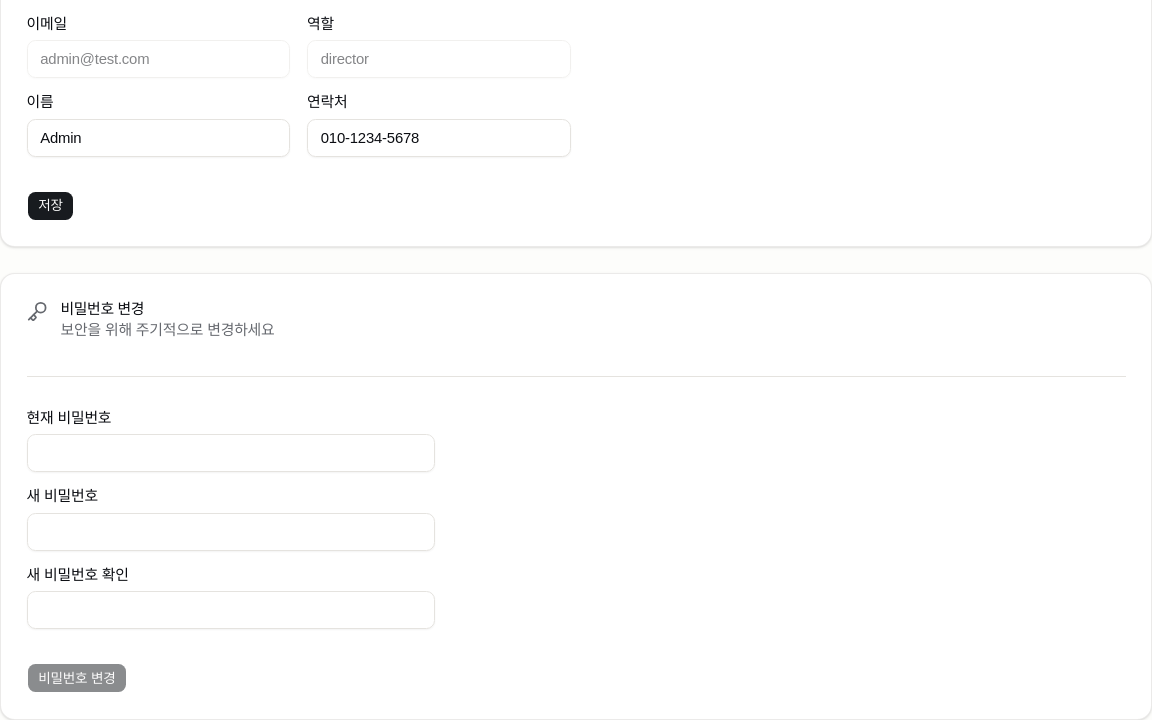
Scenario: SettingsPage › disables save button when passwords do not match
This screenshot has width=1152, height=720.
(page scrolled)
In the password field labelled "현재 비밀번호": (230, 453) left=26, top=434, right=434, bottom=472, type "oldpass"
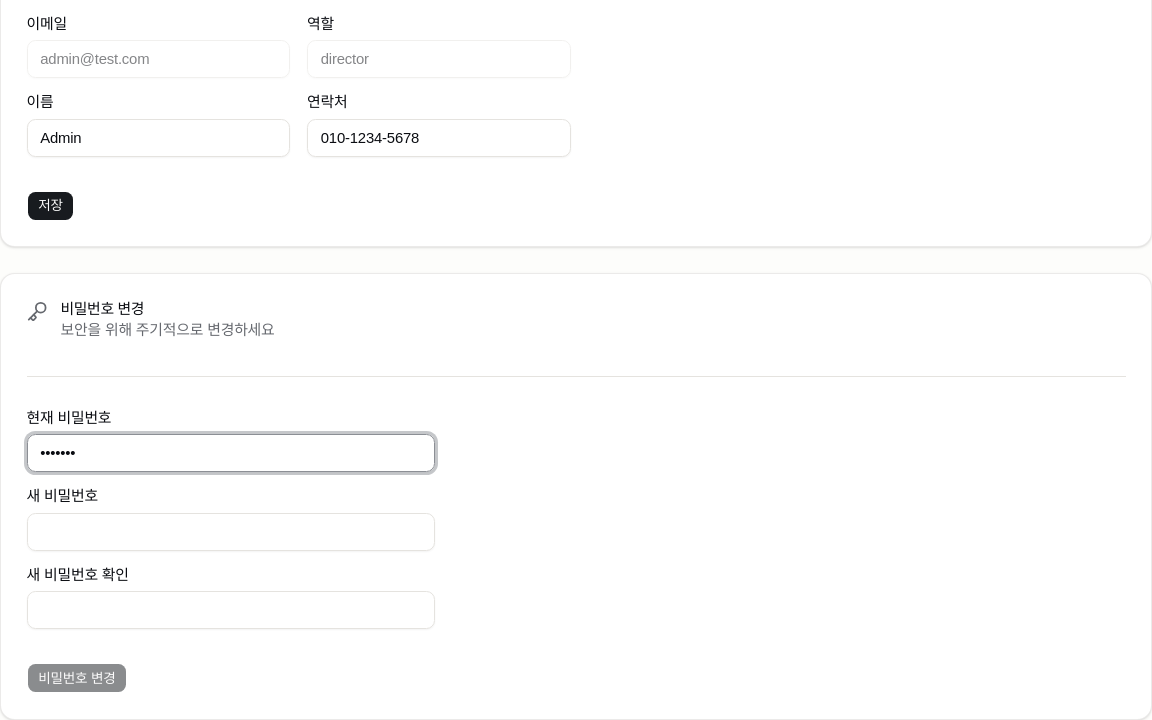
In the password field labelled "새 비밀번호": (230, 532) left=26, top=513, right=434, bottom=551, type "newpass123"
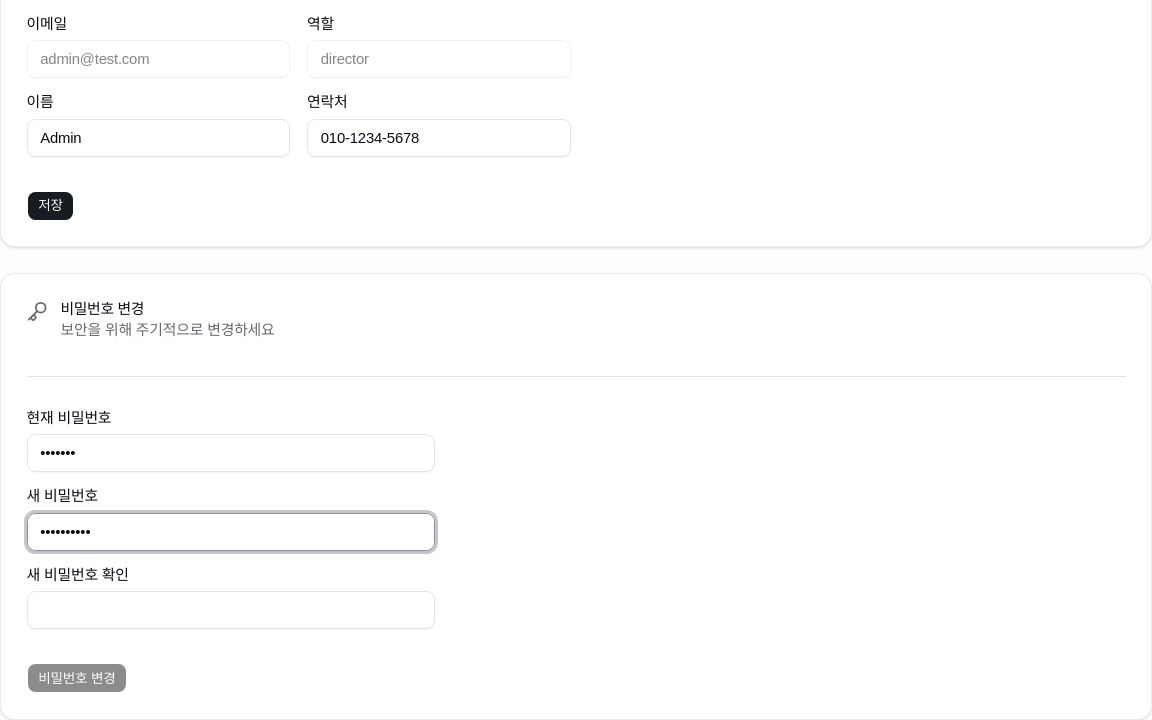
In the password field labelled "새 비밀번호 확인": (230, 610) left=26, top=591, right=434, bottom=630, type "different"
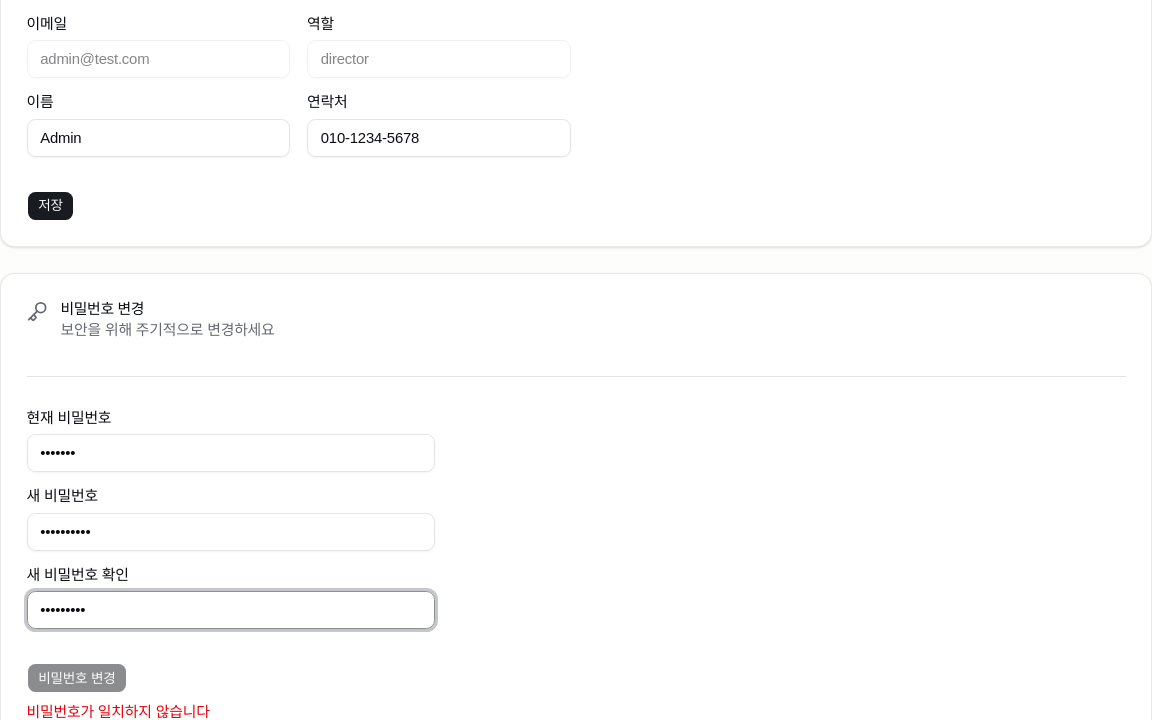
Expected: the button "비밀번호 변경" is disabled, left=26, top=664, right=127, bottom=693
Now the text "비밀번호가 일치하지 않습니다" is shown, box left=26, top=704, right=210, bottom=719
